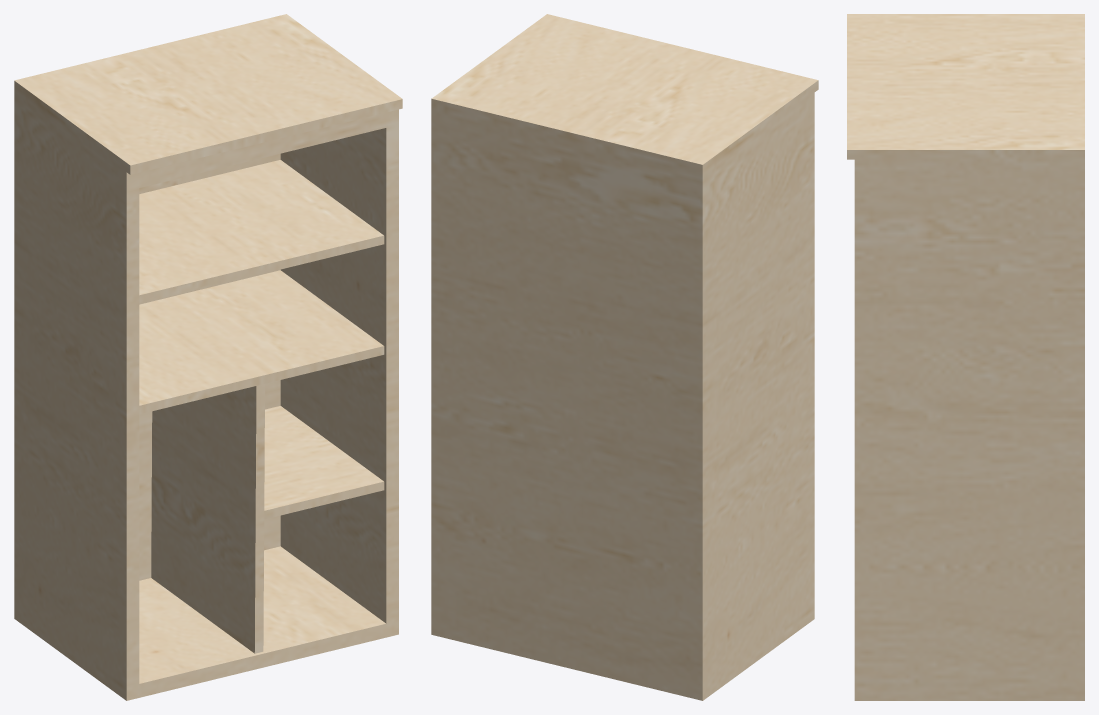
File: Closet33.fbx
3 renders of one model, left to right at view 1: azimuth 30°, elevation 25°; view 2: azimuth 150°, elevation 25°; view 3: azimuth 270°, elevation 25°, orthographic. The views are drawn at different scales.
Parts seen in each view (by area): view 1: Closet33; view 2: Closet33; view 3: Closet33.
Part boxes in pixels (<box>): Closet33: <box>14,14,402,700</box>; Closet33: <box>431,14,818,700</box>; Closet33: <box>847,14,1084,700</box>.
Bounding box in the file's own units: 62.2 × 117 × 45.95.
